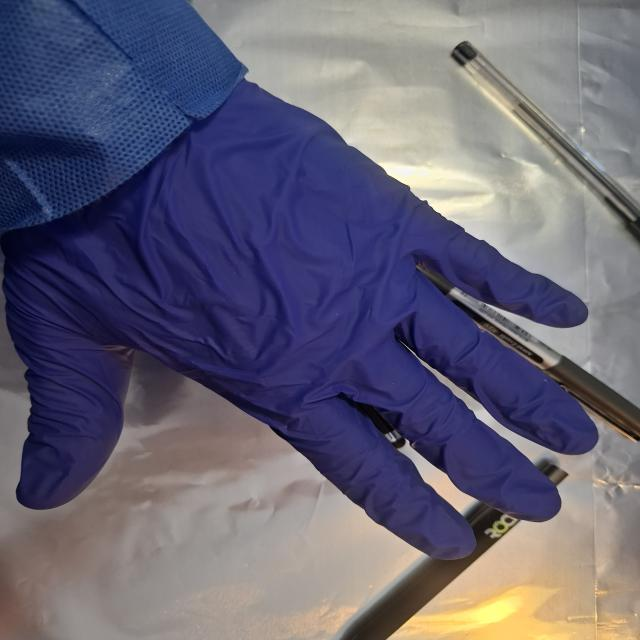glove_on: (1, 79, 603, 562)
